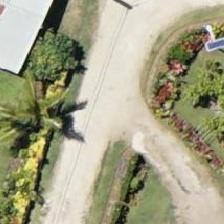coconut_tree: (0, 71, 82, 161)
